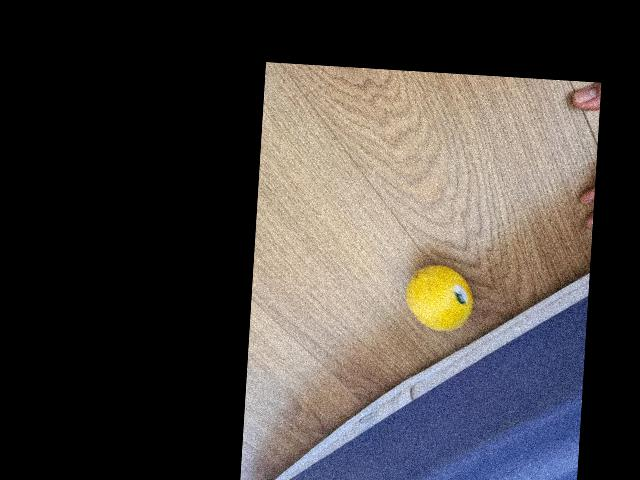lemon: (399, 267, 475, 329)
